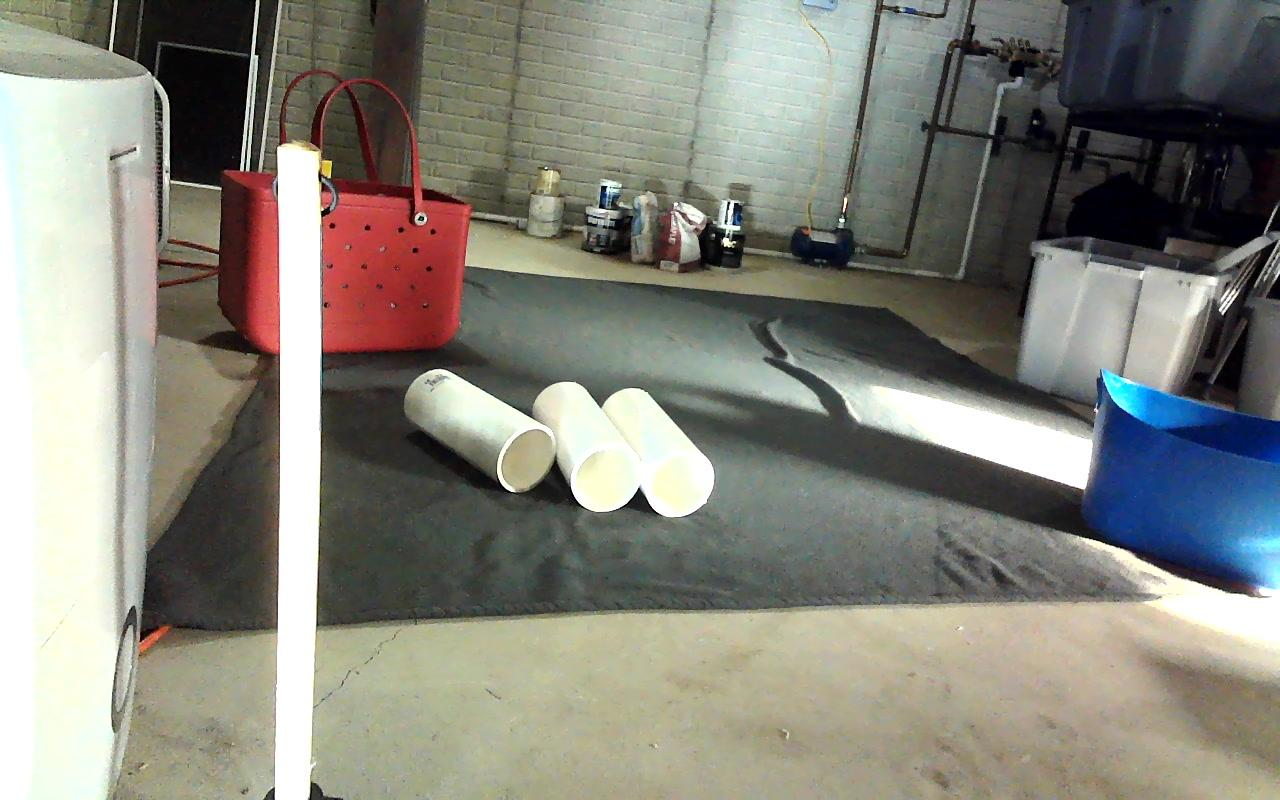coral: (404, 369, 554, 492), (533, 381, 638, 511), (608, 387, 713, 516)
